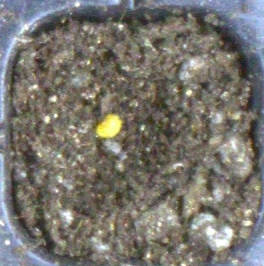chilli seed: (95, 113, 121, 137)
